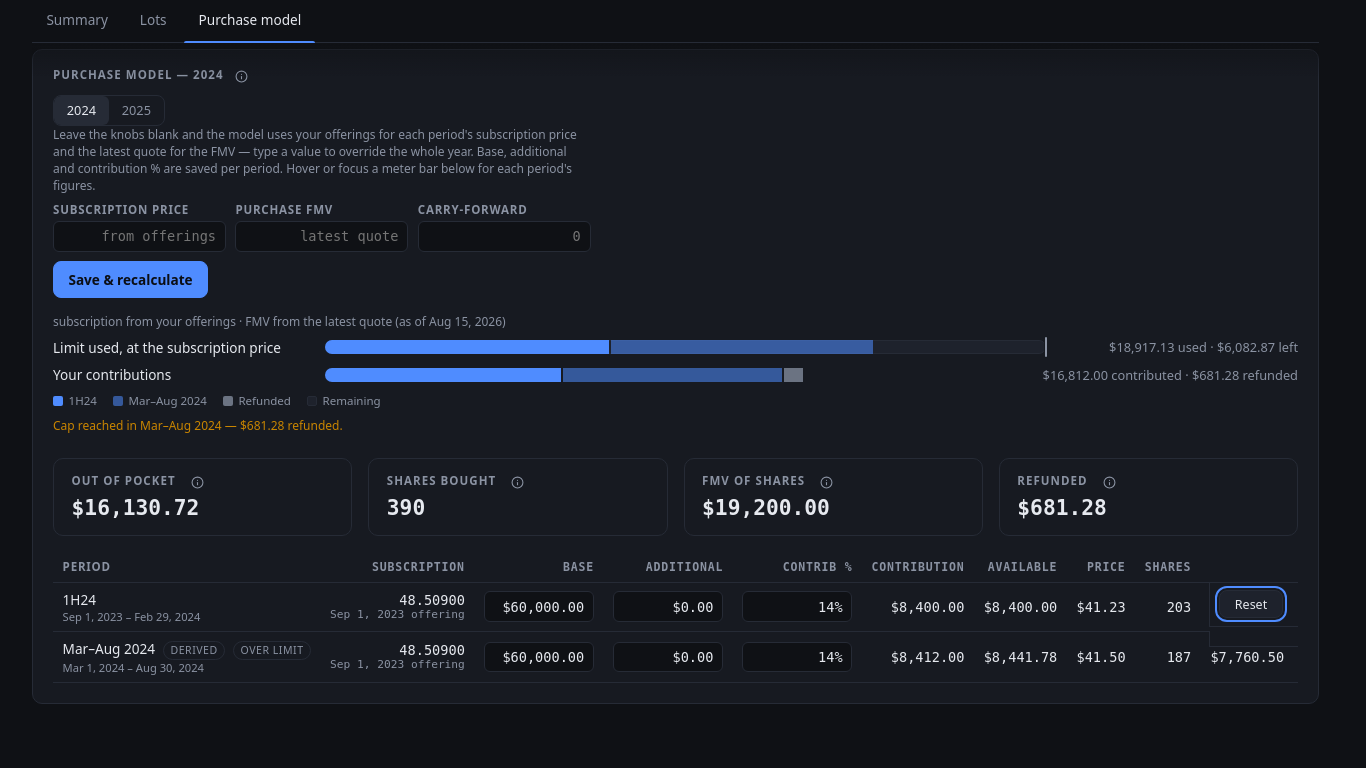
Test: keeps a refused period reset visible and reports the server sentence
(page scrolled)
Click the button with aria-label "Reset 1H24 to derived values": click(1251, 604) [1219,590,1282,618]
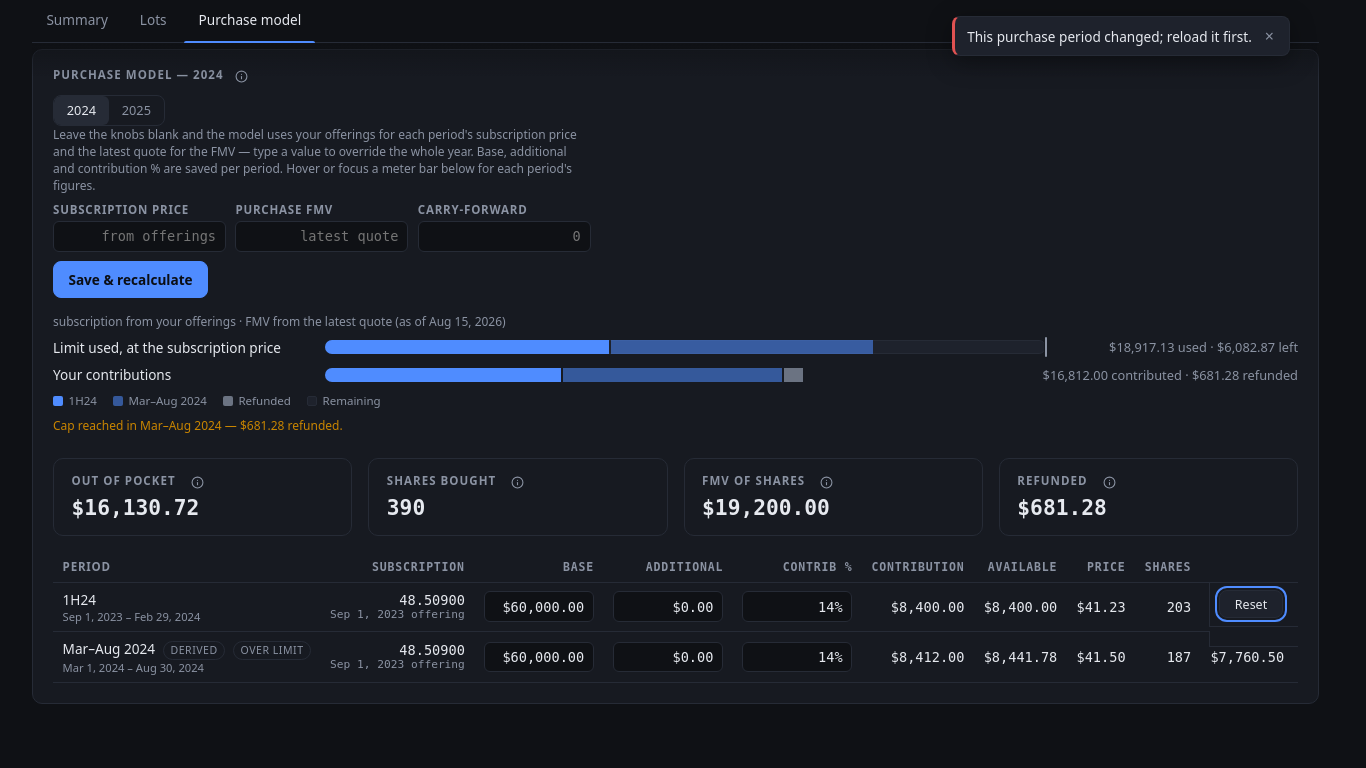
Expected: the text "This purchase period changed; reload it first." is shown, [967,27,1252,46]
